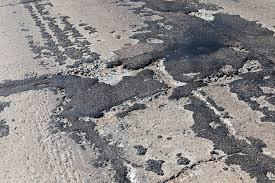crack: (159, 144, 247, 183)
pothole: (75, 54, 148, 92), (174, 65, 238, 94), (195, 86, 253, 112), (220, 108, 275, 135), (149, 56, 187, 91), (185, 4, 227, 26), (243, 49, 267, 79), (228, 35, 245, 58)
